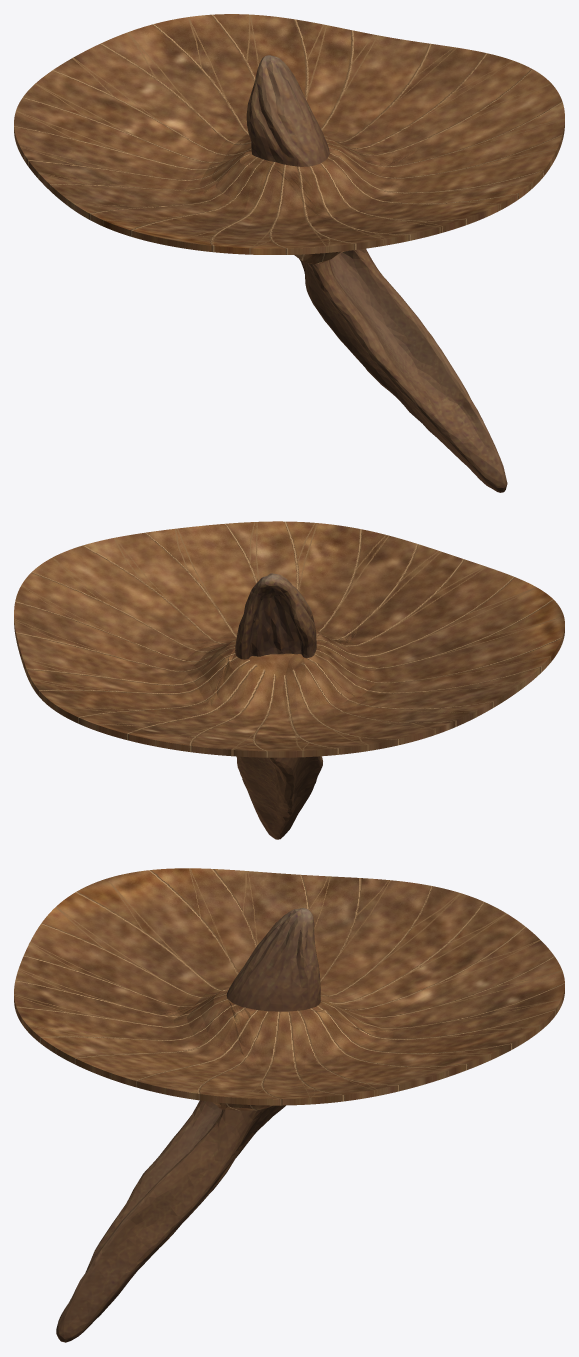
3 views of the same model, one above another, from view 1: azimuth 30°, elevation 25°; view 2: azimuth 150°, elevation 25°; view 3: azimuth 270°, elevation 25° (orthographic).
Parts seen in each view (by area): view 1: world; view 2: world; view 3: world.
Part boxes in pixels (x1=…): world: x1=14, y1=14, x2=564, y2=492; world: x1=14, y1=521, x2=564, y2=839; world: x1=14, y1=868, x2=564, y2=1342.
Size of the model in its own units: 0.9461 by 0.713 by 0.9417.
Materials: 2 (2 with a texture image).
